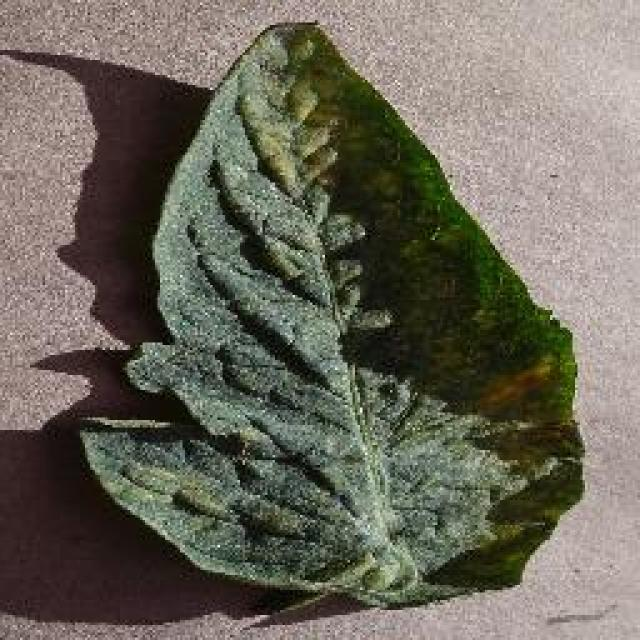Tomato___Spider_mites Two-spotted_spider_mite: (80, 22, 582, 605)
